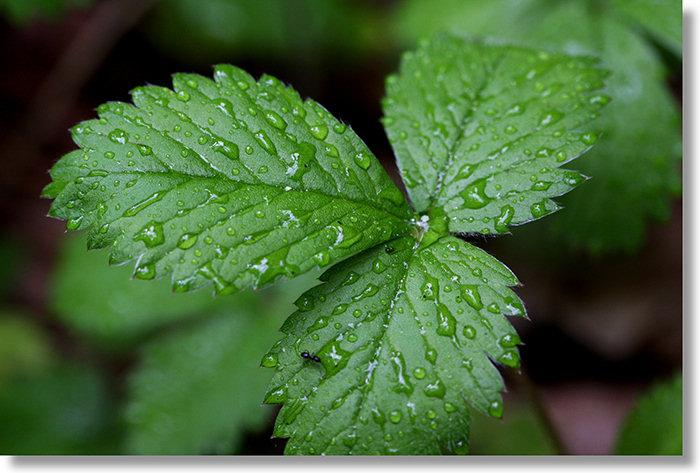Strawberry leaf: (32, 55, 415, 295), (259, 226, 534, 454), (380, 12, 621, 243)
